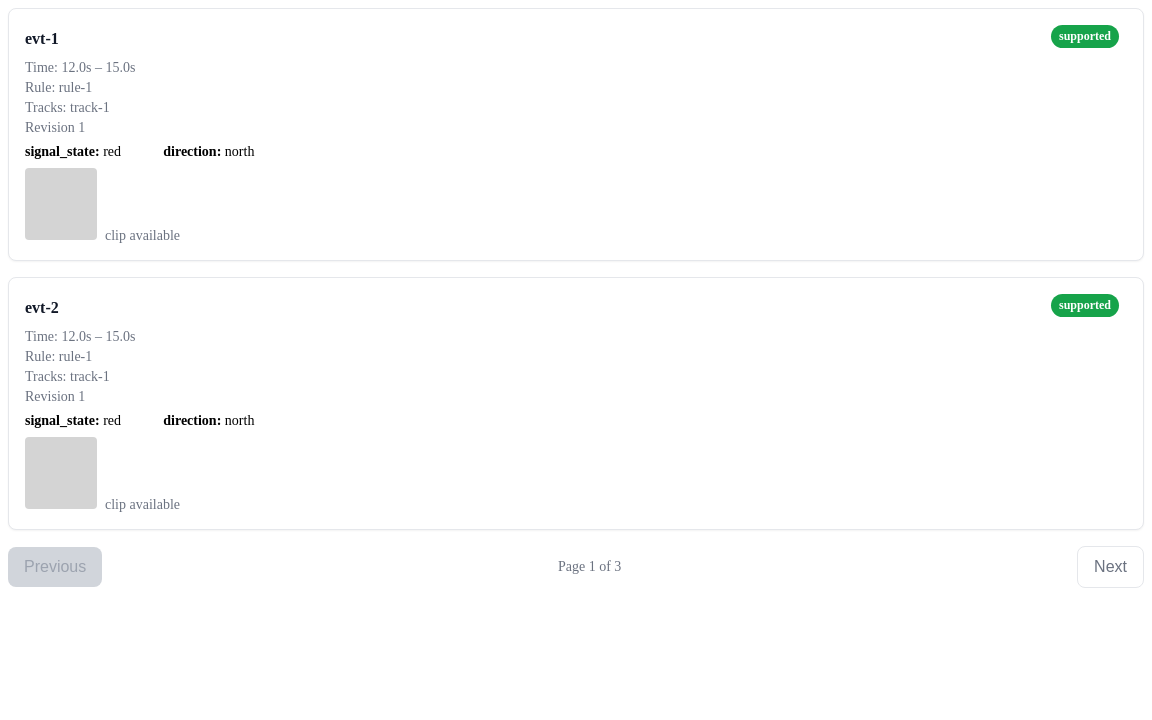
Test: EventList › paginates through events
Expected: the number of list items is 2, [8,8,1144,261]; [8,277,1144,530]
Step 1. Click the button "Next" → (1111, 567), box [1077,546,1144,588]
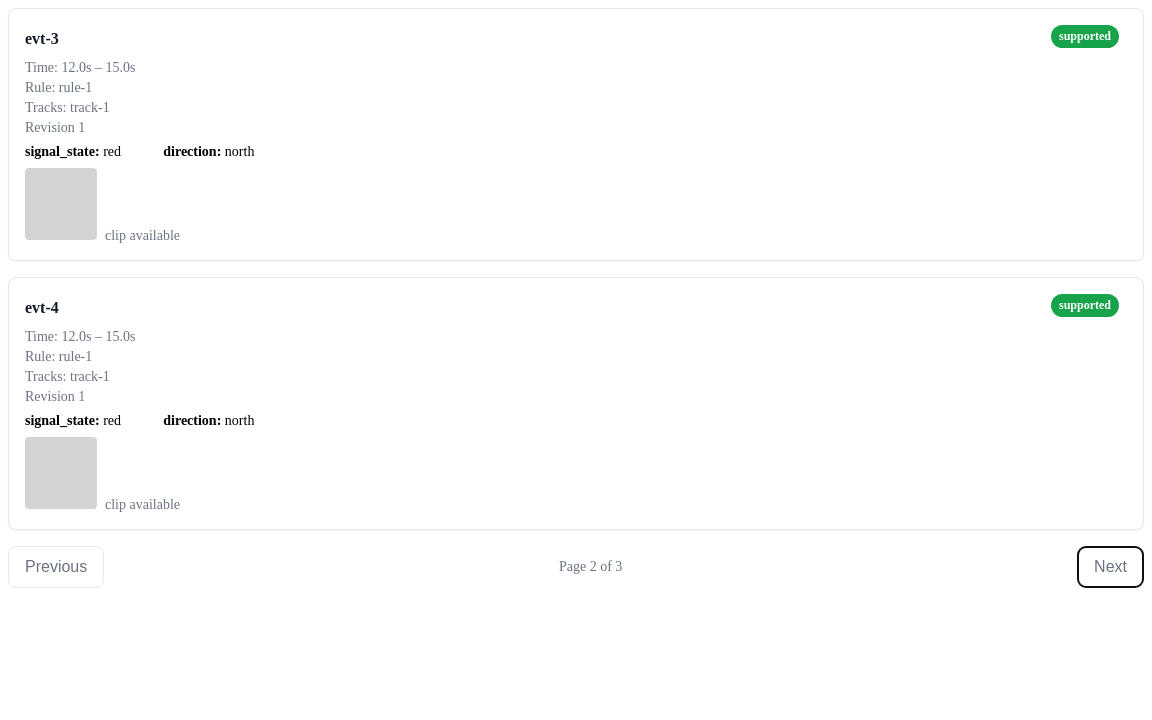
Expected: the number of list items is 2, [8,8,1144,261]; [8,277,1144,530]
Expected: the text "evt-3" is shown, [25,30,59,48]
Step 2. Click the button "Previous" → (56, 567), box [8,546,104,588]
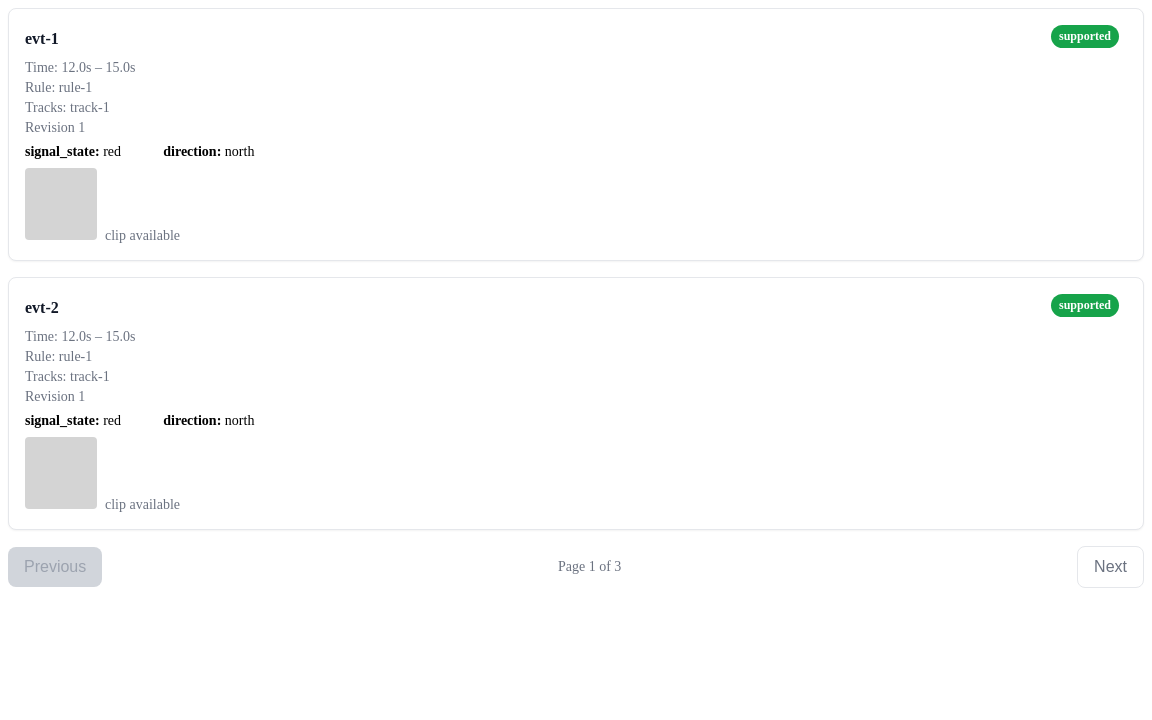
Expected: the text "evt-1" is shown, [25,30,59,48]
